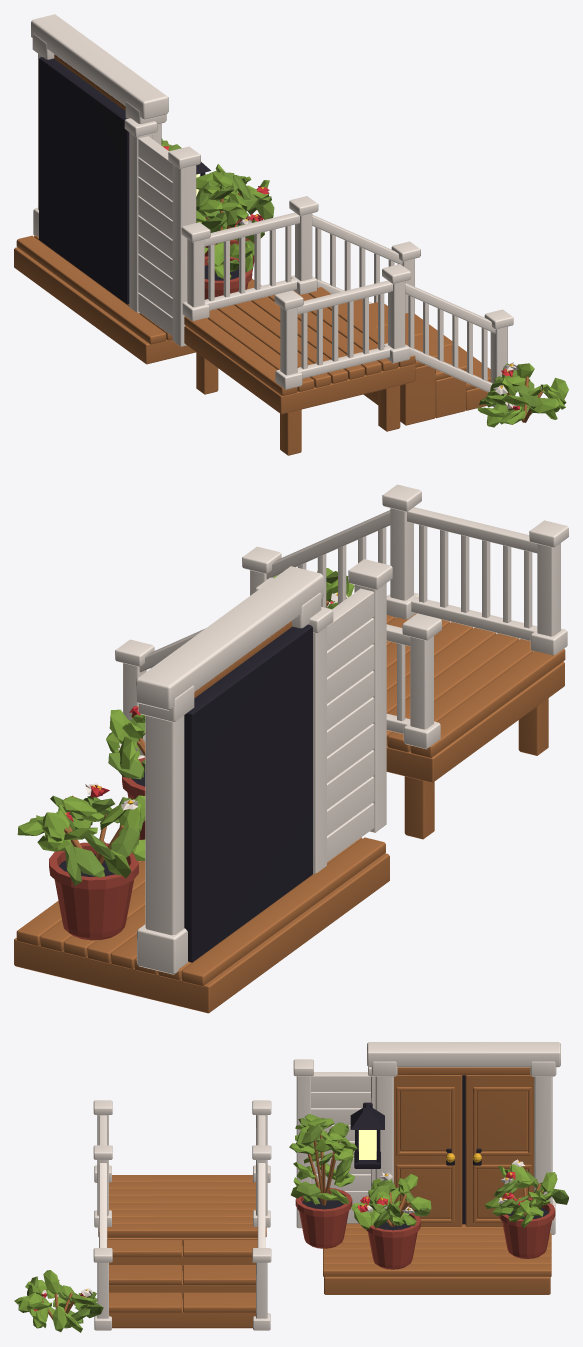
3 renders of one model, top to bottom at view 1: azimuth 30°, elevation 25°; view 2: azimuth 150°, elevation 25°; view 3: azimuth 270°, elevation 25°, orthographic. The views are drawn at different scales.
Parts seen in each view (by area): view 1: static_pal_picketWhite, static_pal_woodWarm, static_pal_uiDark, static_pal_foliage, static_pal_grass, static_pal_brick; view 2: static_pal_picketWhite, static_pal_woodWarm, static_pal_uiDark, static_pal_foliage, static_pal_brick, static_pal_grass; view 3: static_pal_woodWarm, static_pal_picketWhite, door_L, door_R, static_pal_foliage, static_pal_brick, static_pal_grass, static_pal_uiDark, static_emi_windowGlow, static_pal_survivorRed.
Boxes of the visible parts, x1,y1,x2,y2 form: static_pal_picketWhite: (31, 14, 517, 408); static_pal_woodWarm: (14, 54, 542, 455); static_pal_uiDark: (39, 57, 240, 304); static_pal_foliage: (161, 138, 568, 427); static_pal_grass: (168, 144, 538, 414); static_pal_brick: (204, 216, 254, 309); static_pal_picketWhite: (85, 484, 568, 974); static_pal_woodWarm: (14, 600, 565, 1013); static_pal_uiDark: (59, 624, 312, 962); static_pal_foliage: (17, 568, 354, 878); static_pal_brick: (49, 757, 145, 940); static_pal_grass: (50, 571, 348, 885); static_pal_woodWarm: (42, 1067, 551, 1328); static_pal_picketWhite: (42, 1042, 560, 1330); door_L: (394, 1075, 462, 1226); door_R: (465, 1075, 533, 1226); static_pal_foliage: (14, 1114, 557, 1332); static_pal_brick: (295, 1187, 555, 1269); static_pal_grass: (27, 1117, 568, 1328); static_pal_uiDark: (302, 1075, 548, 1230); static_emi_windowGlow: (359, 1130, 376, 1159); static_pal_survivorRed: (33, 1171, 525, 1311).
Size of the model in its own units: 3.16 by 2.78 by 6.86.
